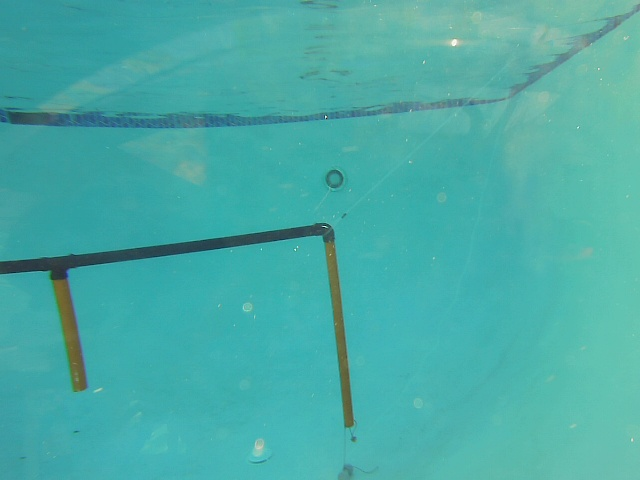Gate: (320, 237, 356, 429), (47, 268, 92, 396)
